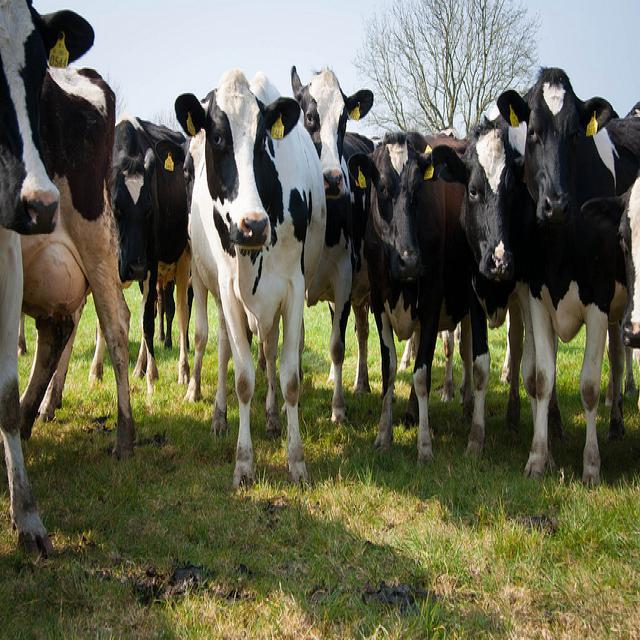cow: (177, 69, 322, 490), (498, 62, 639, 481), (0, 0, 93, 555), (349, 128, 490, 462), (18, 60, 134, 453), (86, 114, 201, 391), (291, 65, 380, 421), (463, 99, 531, 423), (582, 173, 639, 347)
